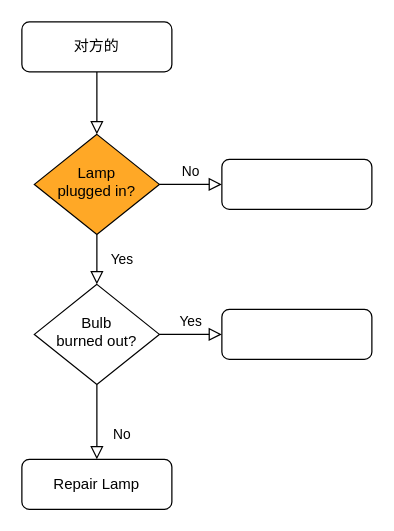
Image size: 394x531. Some labels were removed from this diagram. Here are the shapes that lost their labels. From the top down, the centre of each, then its label:
At (296,183): "Plug in lamp".
At (296,333): "Replace Bulb".
